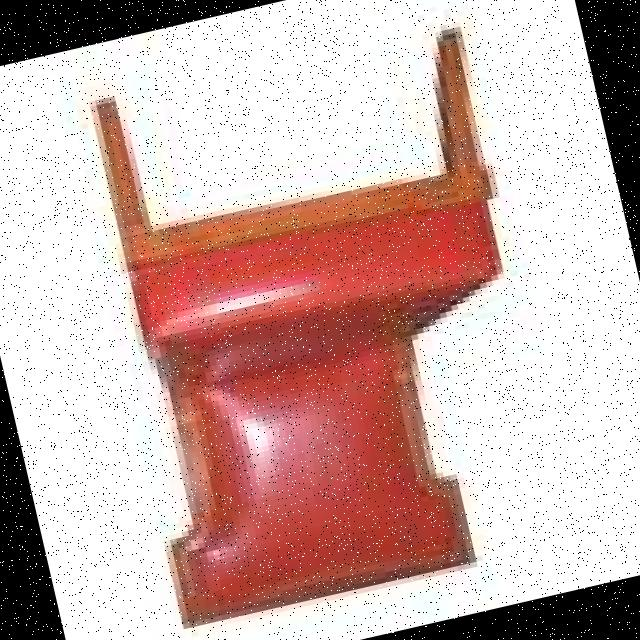Chair: (14, 0, 623, 640)
